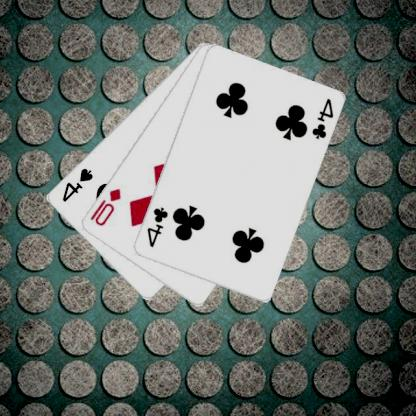10D: (89, 186, 124, 228)
4C: (145, 204, 171, 249), (310, 96, 336, 141)
4S: (61, 166, 96, 204)
